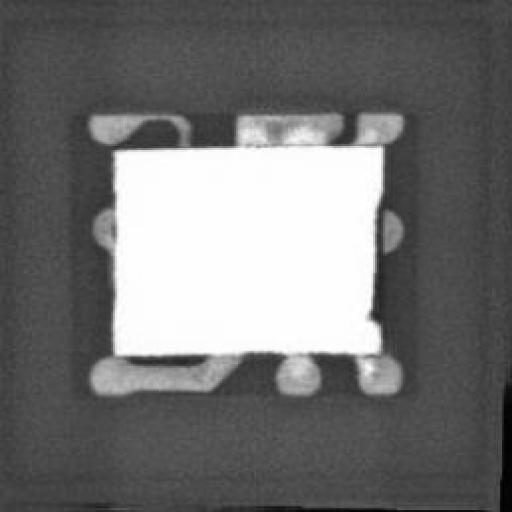DIE_BROKEN: (361, 192, 385, 326)
